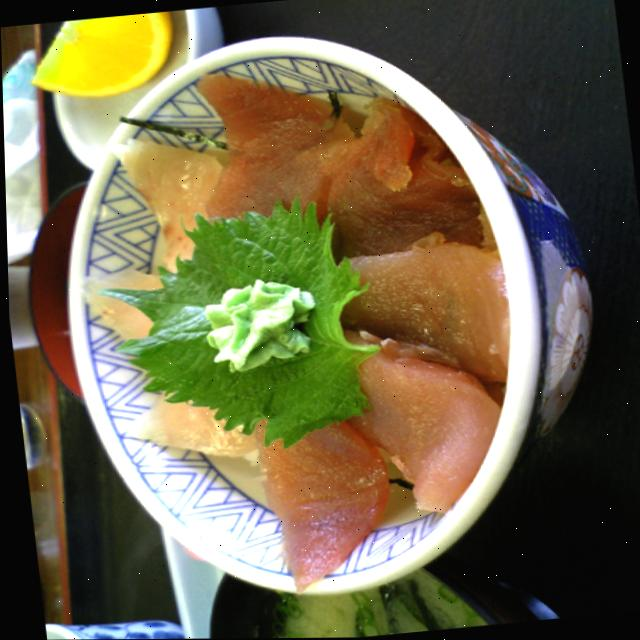刺身生食: (36, 17, 627, 618)
